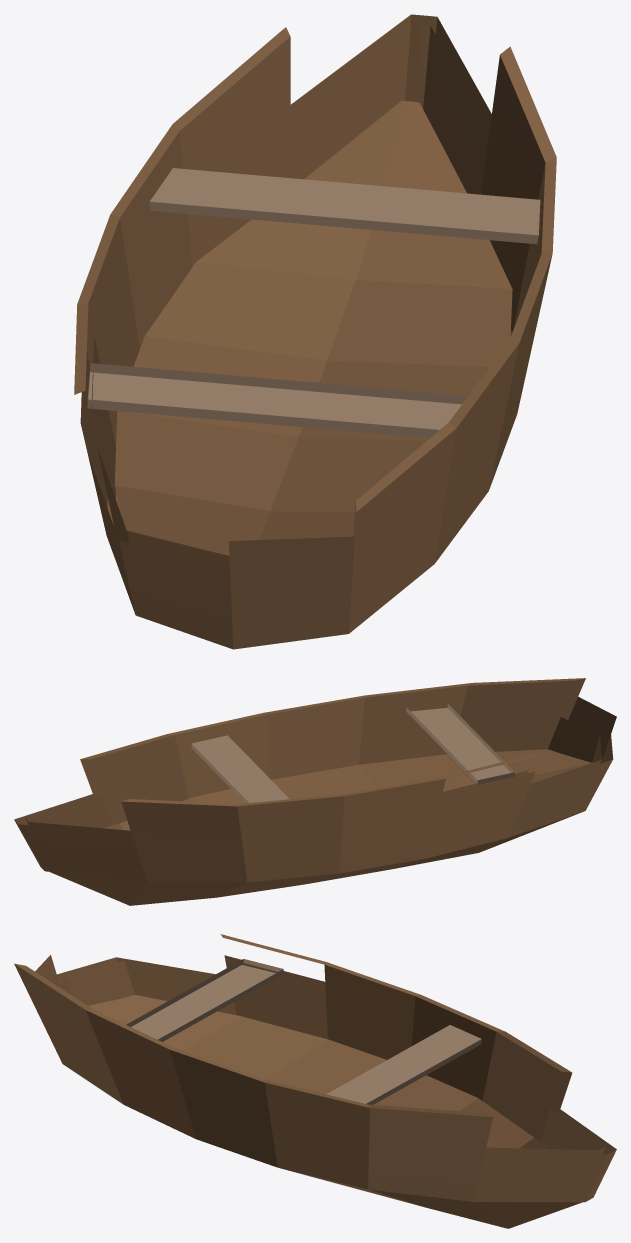
The model's file is 06 Boat_Broken_3.FBX.
The picture shows the model from 3 angles, top to bottom: view 1: azimuth 30°, elevation 25°; view 2: azimuth 150°, elevation 25°; view 3: azimuth 270°, elevation 25°; orthographic projection. The views are drawn at different scales.
Parts seen in each view (by area): view 1: Cube013; view 2: Cube013; view 3: Cube013.
Boxes of the visible parts, box(x1,y1,x2,y2) form: Cube013: box(74, 14, 556, 649); Cube013: box(14, 678, 616, 905); Cube013: box(14, 934, 616, 1228).
Size of the model in its own units: 708 by 245 by 873.
